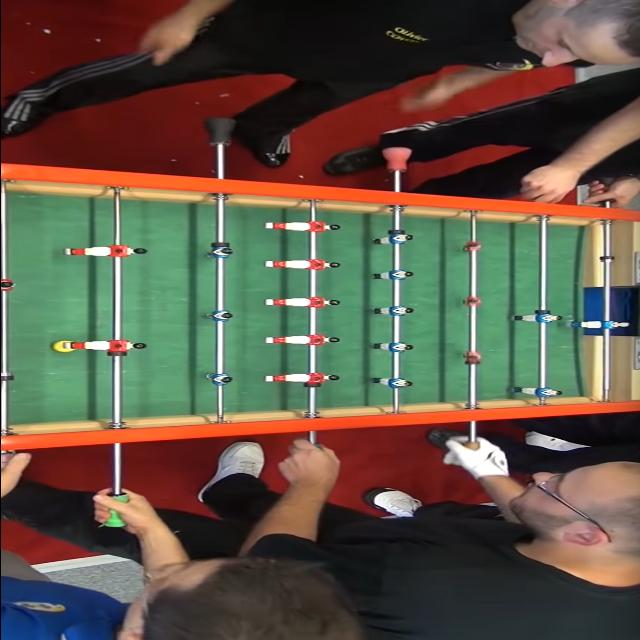ball: (56, 340, 80, 350)
